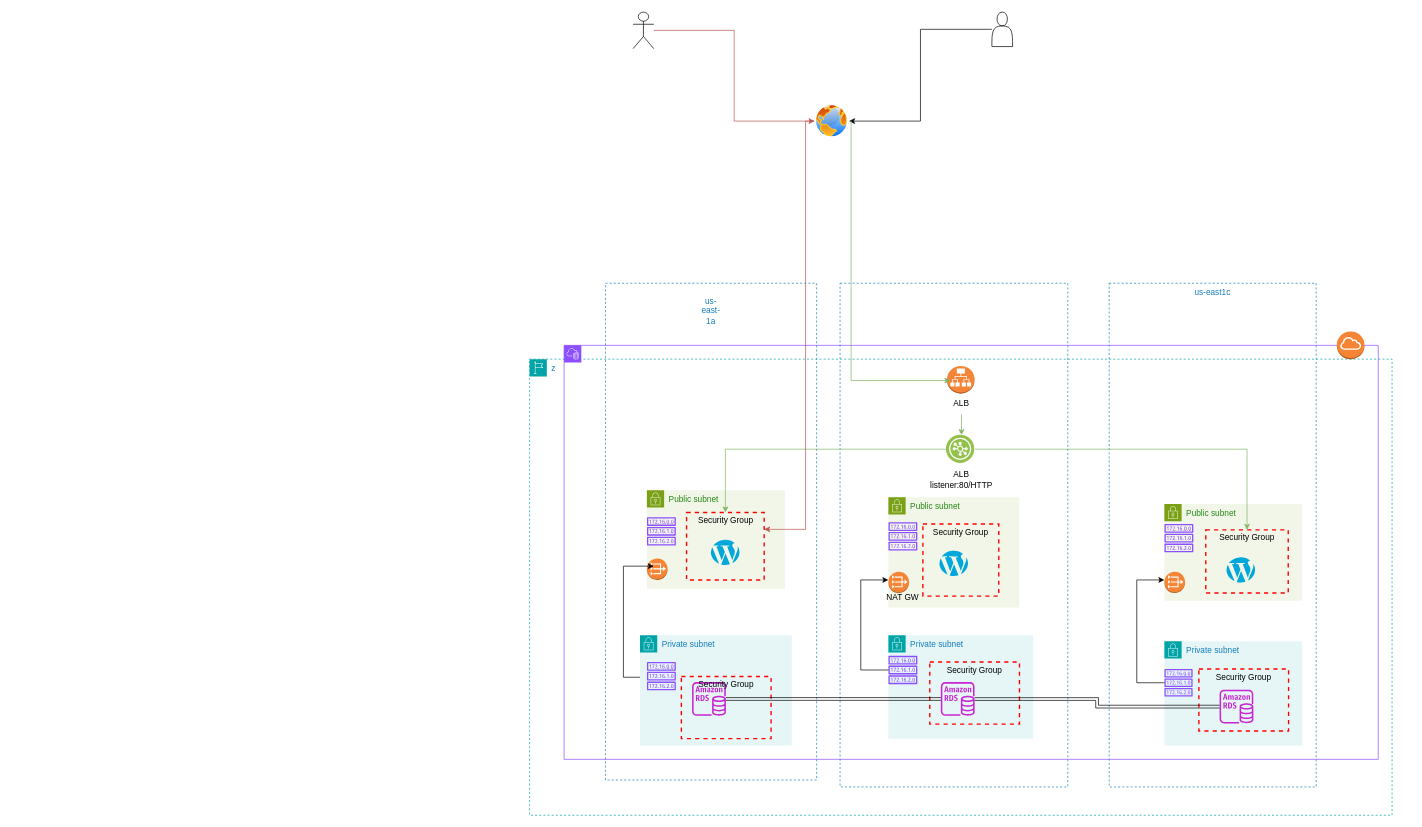
Some shapes in this 1422 by 827 pixel diagram are drawn without their labels. Each missing label, with the box of its shape:
Actor: (632, 11, 654, 49)
us-east-1b: (839, 283, 1068, 787)
VPC: (563, 345, 1378, 759)
